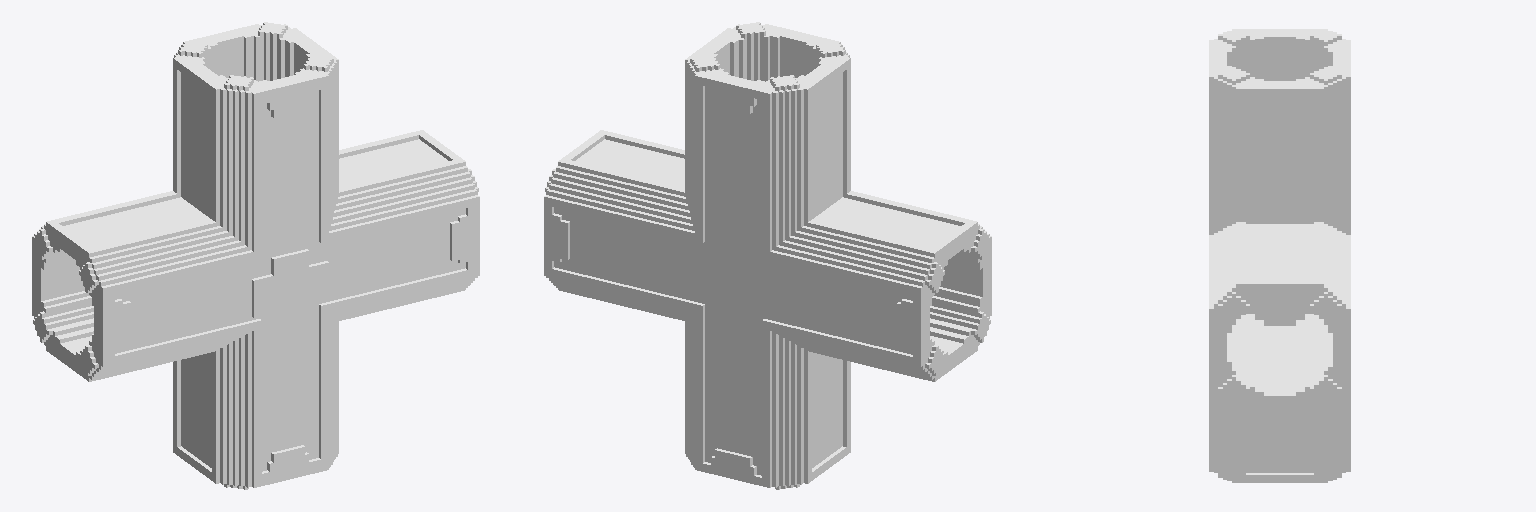
File: Boss03.obj
The picture shows the model from 3 angles: view 1: azimuth 30°, elevation 25°; view 2: azimuth 150°, elevation 25°; view 3: azimuth 270°, elevation 25°; orthographic projection.
Bounding box in the file's own units: 97 × 97 × 31.